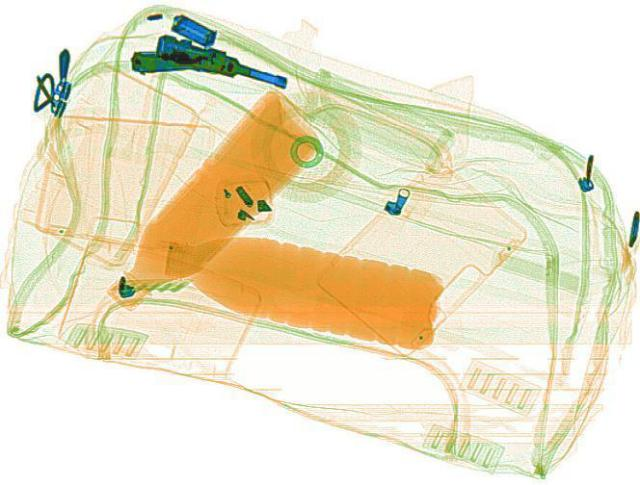Gun: (122, 29, 298, 105)
